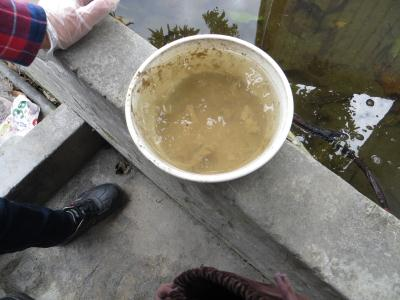bowl: (119, 32, 296, 187)
